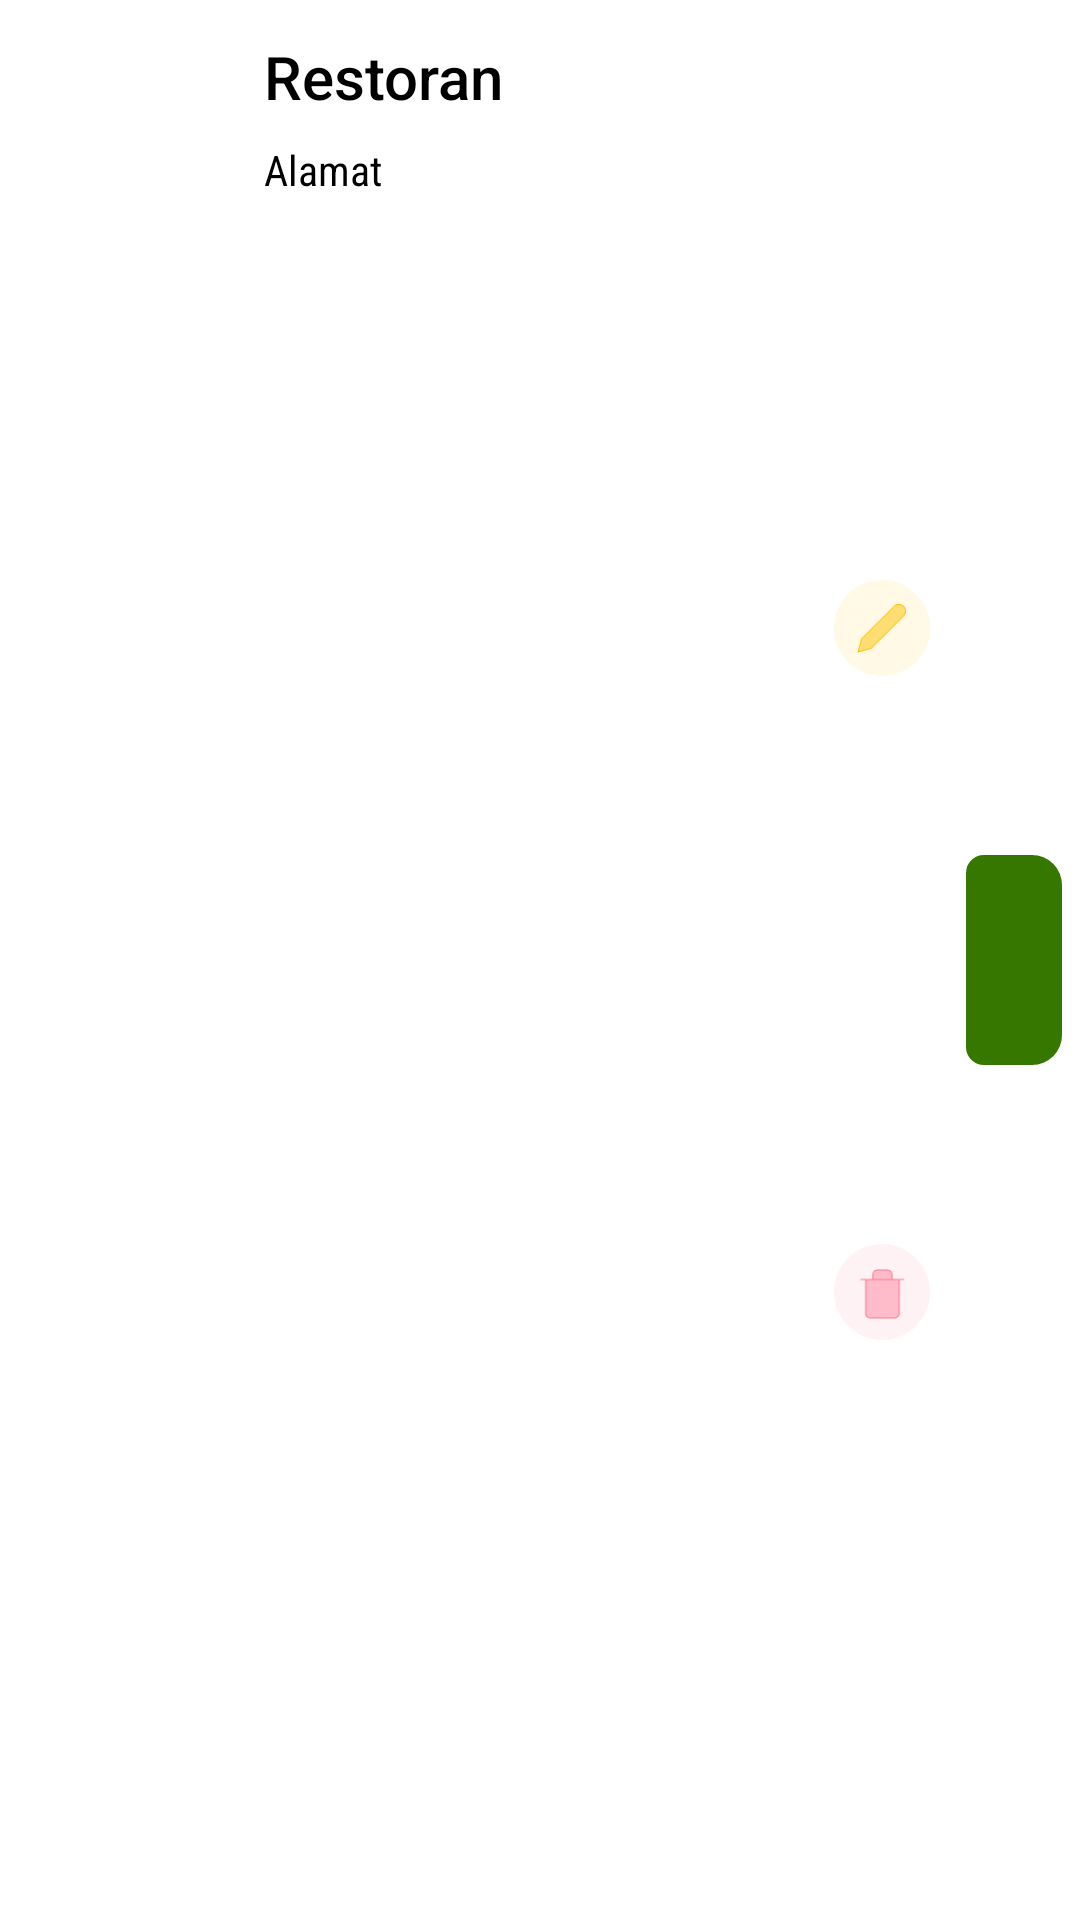

Icons on this 1080×1920 Android screen, each with the point to tap as (x,y):
delete: (882,1294)
edit: (882,628)
